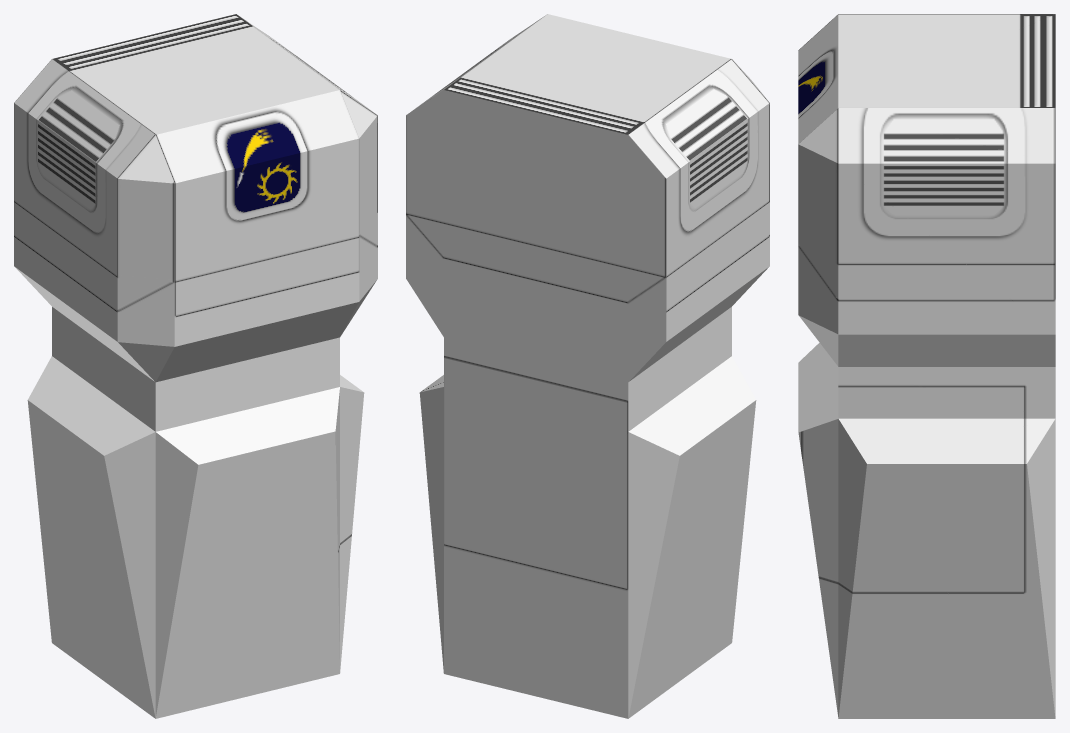
Rendered from multi_right_arm.obj.
The picture shows the model from 3 angles, left to right: view 1: azimuth 30°, elevation 25°; view 2: azimuth 150°, elevation 25°; view 3: azimuth 270°, elevation 25°; orthographic projection. The views are drawn at different scales.
Visible parts, largest first — view 1: right_arm_Cube.000; view 2: right_arm_Cube.000; view 3: right_arm_Cube.000.
Boxes of the visible parts, x1,y1,x2,y2 form: right_arm_Cube.000: (14,14,377,718); right_arm_Cube.000: (406,14,769,718); right_arm_Cube.000: (798,14,1055,718).
Size of the model in its own units: 0.3811 by 0.8177 by 0.3118.
